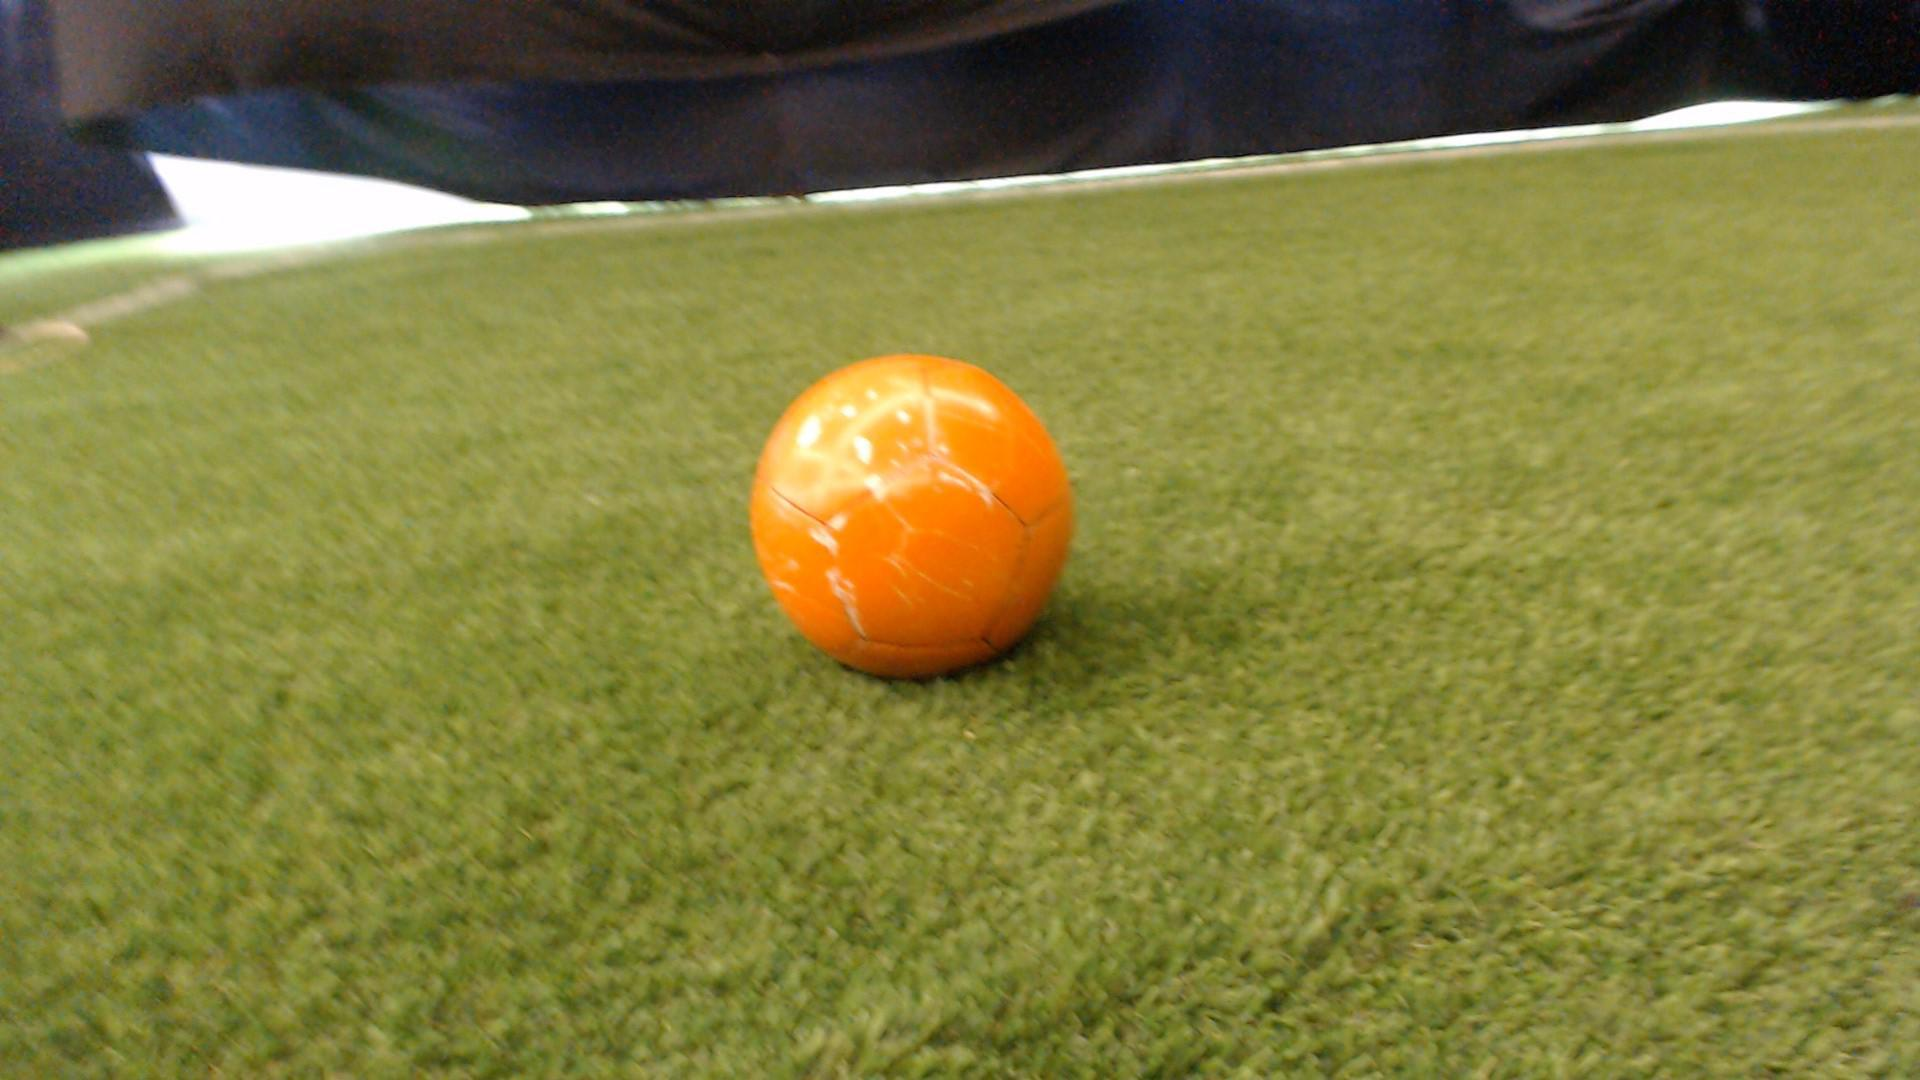bola: (715, 339, 1127, 715)
